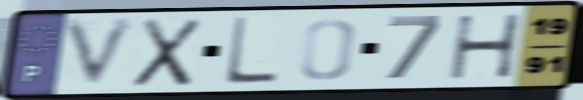0: (297, 17, 360, 83)
7: (383, 12, 449, 83)
H: (447, 11, 526, 82)
L: (221, 14, 280, 87)
V: (59, 14, 143, 92)
X: (129, 16, 207, 90)
